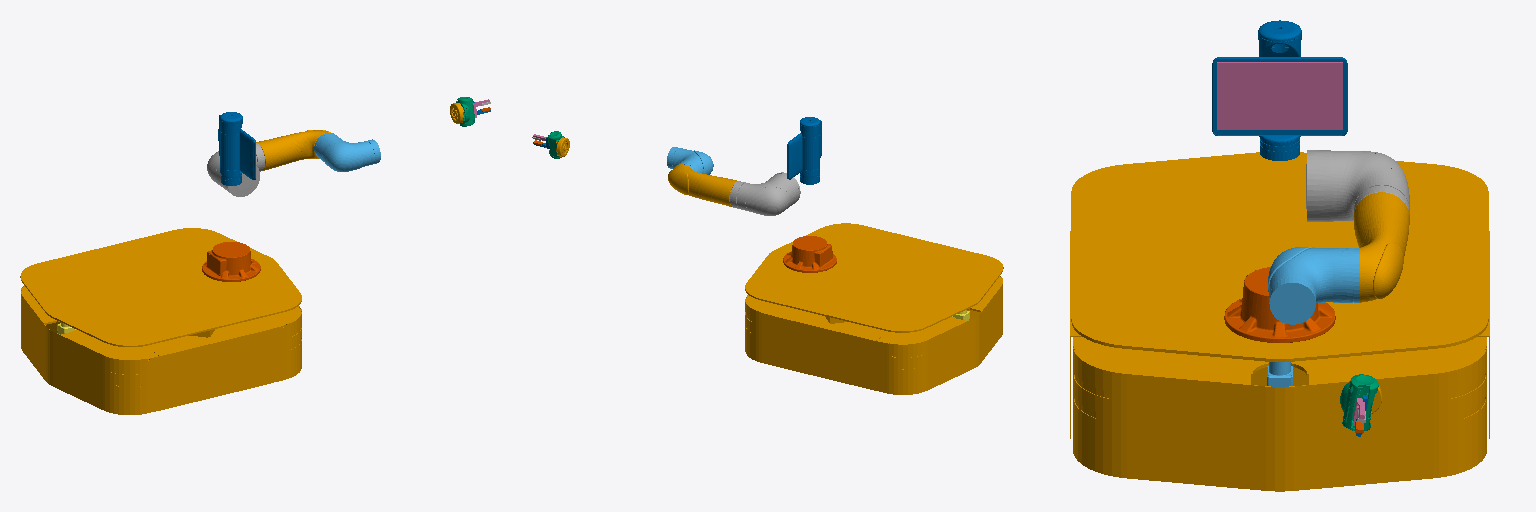
The robot description file, URDF, robot "base":
<?xml version="1.0" encoding="UTF-8"?>
<robot name="base">
  <joint name="panda_fixed" type="fixed">
    <origin xyz="0. 0. 0." rpy="0. -1.5707964 0."/>
    <parent link="sawyer_mobile"/>
    <child link="base_link"/>
    <axis xyz="0 0 0"/>
  </joint>  
  <joint name="front_laser_joint" type="fixed">
    <origin xyz="0.233 0. -0.3932" rpy="0. 1.5707963 0. "/>
    <parent link="base_link"/>
    <child link="front_laser"/>
  </joint>
  <joint name="rear_laser_joint" type="fixed">
    <origin xyz="0.233 -0. 0.3932" rpy="1.5707964 -1.5707958 1.5707964"/>
    <parent link="base_link"/>
    <child link="rear_laser"/>
  </joint>
  <joint name="display_joint" type="fixed">
    <origin xyz="0.105 0. -0.03 " rpy="3.1415927 0. 1.5707964"/>
    <parent link="head"/>
    <child link="screen"/>
  </joint>
  <joint name="head_pan" type="revolute">
    <origin xyz="0.2965 0. 0. " rpy="0. 0. 0."/>
    <parent link="right_l0"/>
    <child link="head"/>
    <axis xyz="1. 0. 0."/>
    <limit lower="-5.0951997" upper="0.9064" effort="480." velocity="1.8"/>
  </joint>
  <joint name="right_arm_mount" type="fixed">
    <origin xyz="0.28 0.0 -0.290" rpy="0. 1.5707964 0"/>
    <parent link="base_link"/>
    <child link="right_arm_base_link"/>
  </joint>
  <joint name="right_j0" type="revolute">
    <origin xyz="0. 0. 0.08" rpy="0. -1.5707964 0. "/>
    <parent link="right_arm_base_link"/>
    <child link="right_l0"/>
    <axis xyz="1. 0. 0."/>
    <limit lower="-3.0502998" upper="3.0502998" effort="4800." velocity="1.74"/>
  </joint>
  <joint name="right_j1" type="revolute">
    <origin xyz="0.237 0.05 -0.081" rpy="1.5707964 0. 1.5707964"/>
    <parent link="right_l0"/>
    <child link="right_l1"/>
    <axis xyz="1. 0. 0."/>
    <limit lower="-3.8094999" upper="2.2736" effort="4800." velocity="1.3279999"/>
  </joint>
  <joint name="right_j2" type="revolute">
    <origin xyz="0.1425 -0.14 -0. " rpy="-0. 0. -1.5707963"/>
    <parent link="right_l1"/>
    <child link="right_l2"/>
    <axis xyz="1. 0. 0."/>
    <limit lower="-3.0425998" upper="3.0425998" effort="2400." velocity="1.957"/>
  </joint>
  <joint name="right_j3" type="revolute">
    <origin xyz="0.26 -0.042 -0.0000001" rpy="0.0000002 -0. 1.5707963"/>
    <parent link="right_l2"/>
    <child link="right_l3"/>
    <axis xyz="1. 0. 0."/>
    <limit lower="-3.0438999" upper="3.0438999" effort="2400." velocity="1.957"/>
  </joint>
  <joint name="right_j4" type="revolute">
    <origin xyz="-0.1265 -0.1249999 0. " rpy="-0.0000001 -0.0000001 -1.5707963"/>
    <parent link="right_l3"/>
    <child link="right_l4"/>
    <axis xyz="1. 0. 0."/>
    <limit lower="-2.9760998" upper="2.9760998" effort="540." velocity="3.4849998"/>
  </joint>
  <joint name="right_j5" type="revolute">
    <origin xyz="0.2749999 0.031 0. " rpy="0.0000001 -0.0000001 1.5707963"/>
    <parent link="right_l4"/>
    <child link="right_l5"/>
    <axis xyz="1. 0. 0."/>
    <limit lower="-2.9760998" upper="2.9760998" effort="540." velocity="3.4849998"/>
  </joint>
  <joint name="right_j6" type="revolute">
    <origin xyz="0.1053 -0.11 0. " rpy="2.9670625 0.0000072 -1.5707961"/>
    <parent link="right_l5"/>
    <child link="right_l6"/>
    <axis xyz="1. 0. 0."/>
    <limit lower="-4.7123996" upper="4.7123996" effort="540." velocity="4.5450003"/>
  </joint>
  <joint name="right_l6_right_hand" type="fixed">
    <origin xyz="0.0245 0. 0. " rpy="1.5707961 0.0000001 0.0000002"/>
    <parent link="right_l6"/>
    <child link="sawyer_right_hand"/>
  </joint>
  <joint name="right_connector_plate_base_joint" type="fixed">
    <origin xyz="0. 0. 0.0018" rpy="0. 0. 0."/>
    <parent link="right_gripper_base"/>
    <child link="right_connector_plate_base"/>
  </joint>
  <joint name="right_connector_plate_mount_joint" type="fixed">
    <origin xyz="0. -0. 0.0176001" rpy="0. 0. 0."/>
    <parent link="right_connector_plate_base"/>
    <child link="right_connector_plate_mount"/>
  </joint>
  <joint name="right_electric_gripper_base_joint" type="fixed">
    <origin xyz="0. -0. -0.0000001" rpy="0. 0. 0."/>
    <parent link="right_connector_plate_mount"/>
    <child link="right_electric_gripper_base"/>
  </joint>
  <joint name="right_gripper_base_joint" type="fixed">
    <origin xyz="0. 0. -0.005" rpy="-1.5707964 1.5707964 -1.5707964"/>
    <parent link="sawyer_right_hand"/>
    <child link="right_gripper_base"/>
  </joint>
  <joint name="right_gripper_l_finger_joint" type="prismatic">
    <origin xyz="0.003 -0.0015 0.04552" rpy="-0. 0.0000001 -0.0000002"/>
    <parent link="right_electric_gripper_base"/>
    <child link="right_gripper_l_finger"/>
    <axis xyz="0. 1. 0."/>
    <limit lower="0." upper="0.020833" effort="20." velocity="5."/>
  </joint>
  <joint name="right_gripper_l_finger_tip_joint" type="fixed">
    <origin xyz="-0. 0.01725 0.075 " rpy="0.0000001 0. -0.0000001"/>
    <parent link="right_gripper_l_finger"/>
    <child link="right_gripper_l_finger_tip"/>
  </joint>
  <joint name="right_gripper_r_finger_joint" type="prismatic">
    <origin xyz="0.003 0.0015 0.04552" rpy="-0. 0.0000001 -0.0000002"/>
    <parent link="right_electric_gripper_base"/>
    <child link="right_gripper_r_finger"/>
    <axis xyz="0. 1. 0."/>
    <limit lower="-0.020833" upper="0." effort="340282346638528859811704183484516925440." velocity="5."/>
  </joint>
  <joint name="right_gripper_r_finger_tip_joint" type="fixed">
    <origin xyz="-0. -0.01725 0.0750001" rpy="0. -0.0000001 0. "/>
    <parent link="right_gripper_r_finger"/>
    <child link="right_gripper_r_finger_tip"/>
  </joint>
  <joint name="right_gripper_tip_joint" type="fixed">
    <origin xyz="0. 0. 0.14062" rpy="0. 0. 0."/>
    <parent link="right_gripper_base"/>
    <child link="right_gripper_tip"/>
  </joint>
  <joint name="torso_t0" type="fixed">
    <origin xyz="0. 0. 0." rpy="0. 0. 0."/>
    <parent link="base_link"/>
    <child link="torso"/>
  </joint>
  <link name="base_link">
    <inertial>
      <origin xyz="0.012 0.002 0.067" rpy="0. 0. 0."/>
      <mass value="1000."/>
      <inertia ixx="4.4744" ixy="0." ixz="0." iyy="7.1623998" iyz="0." izz="4.6155"/>
    </inertial>
    <visual>
      <origin xyz="0. 0. -0." rpy="0. 1.5707963 0. "/>
      <geometry>
        <mesh filename="./meshes/base_link_visuals_mesh_0.obj" scale="1. 1. 1."/>
      </geometry>
    </visual>
    <visual>
      <origin xyz="0. 0. -0." rpy="1.5707964 -1.5707958 1.5707964"/>
      <geometry>
        <mesh filename="./meshes/base_link_visuals_mesh_1.obj" scale="1. 1. 1."/>
      </geometry>
    </visual>
    <visual>
      <origin xyz="0. 0. -0." rpy="0. 1.5707963 0. "/>
      <geometry>
        <mesh filename="./meshes/mesh_2.obj" scale="1. 1. 1."/>
      </geometry>
    </visual>
    <visual>
      <origin xyz="0. 0. -0." rpy="0. 1.5707963 0. "/>
      <geometry>
        <mesh filename="./meshes/mesh_3.obj" scale="1. 1. 1."/>
      </geometry>
    </visual>
    <visual>
      <origin xyz="0. 0. -0." rpy="1.5707964 -1.5707958 1.5707964"/>
      <geometry>
        <mesh filename="./meshes/mesh_4.obj" scale="1. 1. 1."/>
      </geometry>
    </visual>
    <visual>
      <origin xyz="0. 0. -0." rpy="0. 1.5707963 0. "/>
      <geometry>
        <mesh filename="./meshes/mesh_5.obj" scale="1. 1. 1."/>
      </geometry>
    </visual>
    <visual>
      <origin xyz="0. 0. -0." rpy="1.5707964 -1.5707958 1.5707964"/>
      <geometry>
        <mesh filename="./meshes/mesh_6.obj" scale="1. 1. 1."/>
      </geometry>
    </visual>
    <visual>
      <origin xyz="0. 0. -0." rpy="0. 1.5707963 0. "/>
      <geometry>
        <mesh filename="./meshes/mesh_7.obj" scale="1. 1. 1."/>
      </geometry>
    </visual>
    <collision>
      <origin xyz="0. 0. -0." rpy="0. 1.5707963 0. "/>
      <geometry>
        <mesh filename="./meshes/base_link_collisions_mesh_0.obj" scale="1. 1. 1."/>
      </geometry>
    </collision>
    <collision>
      <origin xyz="0. 0. -0." rpy="0. 1.5707963 0. "/>
      <geometry>
        <mesh filename="./meshes/base_link_collisions_mesh_1.obj" scale="1. 1. 1."/>
      </geometry>
    </collision>
  </link>
  <link name="front_laser">
    <inertial>
      <origin xyz="0. 0. 0." rpy="0. 0. 0."/>
      <mass value="0.13"/>
      <inertia ixx="0.0000802" ixy="0." ixz="0." iyy="0.0000802" iyz="0." izz="0.0000542"/>
    </inertial>
    <visual>
      <origin xyz="0. 0. 0." rpy="0. 0. 0."/>
      <geometry>
        <mesh filename="./meshes/front_laser_visuals.obj" scale="1. 1. 1."/>
      </geometry>
    </visual>
    <collision>
      <origin xyz="0. 0. -0.0122" rpy="0. 0. 0."/>
      <geometry>
        <box size="0.05 0.05 0.07"/>
      </geometry>
    </collision>
  </link>
  <link name="sawyer_mobile"/>
  <link name="rear_laser">
    <inertial>
      <origin xyz="0. 0. 0." rpy="0. 0. 0."/>
      <mass value="0.13"/>
      <inertia ixx="0.0000802" ixy="0." ixz="0." iyy="0.0000802" iyz="0." izz="0.0000542"/>
    </inertial>
    <visual>
      <origin xyz="0. -0. 0." rpy="0. 0. -0."/>
      <geometry>
        <mesh filename="./meshes/rear_laser_visuals.obj" scale="1. 1. 1."/>
      </geometry>
    </visual>
    <collision>
      <origin xyz="0. -0. -0.0122" rpy="0. 0. -0."/>
      <geometry>
        <box size="0.05 0.05 0.07"/>
      </geometry>
    </collision>
  </link>
  <link name="head">
    <inertial>
      <origin xyz="0.0053207 -0.0000265 0.1021 " rpy="0. 0. 0."/>
      <mass value="1.5795"/>
      <inertia ixx="0.011833" ixy="0." ixz="0." iyy="0.0082709" iyz="0." izz="0.0049661"/>
    </inertial>
    <visual>
      <origin xyz="0. 0. 0." rpy="0. 1.5707964 0. "/>
      <geometry>
        <mesh filename="./meshes/head_visuals_mesh_0.obj" scale="1. 1. 1."/>
      </geometry>
    </visual>
    <collision>
      <origin xyz="0.08 0. 0. " rpy="0. 1.5707964 0. "/>
      <geometry>
        <sphere radius="0.18"/>
      </geometry>
    </collision>
  </link>
  <link name="right_arm_base_link">
    <inertial>
      <origin xyz="-0.0006241 -0.000028 0.065404 " rpy="0. 0. 0."/>
      <mass value="2.0687001"/>
      <inertia ixx="0.0067599" ixy="0." ixz="0." iyy="0.0067877" iyz="0." izz="0.0074031"/>
    </inertial>
    <visual>
      <origin xyz="0. 0. 0." rpy="0. 0. 0."/>
      <geometry>
        <mesh filename="./meshes/right_arm_base_link_visuals_mesh_0.obj" scale="1. 1. 1."/>
      </geometry>
    </visual>
    <collision>
      <origin xyz="0. 0. 0.12" rpy="0. 0. 0."/>
      <geometry>
        <cylinder radius="0.08" length="0.24"/>
      </geometry>
    </collision>
  </link>
  <link name="right_l0">
    <inertial>
      <origin xyz="0.024366 0.010969 0.14363 " rpy="0. 0. 0."/>
      <mass value="5.3213"/>
      <inertia ixx="0.053314" ixy="0." ixz="0." iyy="0.057902" iyz="0." izz="0.023659"/>
    </inertial>
    <visual>
      <origin xyz="0. 0. 0." rpy="0. 1.5707964 0. "/>
      <geometry>
        <mesh filename="./meshes/right_l0_visuals_mesh_0.obj" scale="1. 1. 1."/>
      </geometry>
    </visual>
    <collision>
      <origin xyz="0.23 0. -0.08" rpy="0. 1.5707964 0. "/>
      <geometry>
        <sphere radius="0.07"/>
      </geometry>
    </collision>
  </link>
  <link name="right_l1">
    <inertial>
      <origin xyz="-0.0030849 -0.026811 0.092521 " rpy="0. 0. 0."/>
      <mass value="4.5050001"/>
      <inertia ixx="0.022398" ixy="0." ixz="0." iyy="0.014613" iyz="0." izz="0.017295"/>
    </inertial>
    <visual>
      <origin xyz="0. 0. 0." rpy="-0. 1.5707963 0. "/>
      <geometry>
        <mesh filename="./meshes/right_l1_visuals_mesh_0.obj" scale="1. 1. 1."/>
      </geometry>
    </visual>
    <collision>
      <origin xyz="0.1225 0. -0. " rpy="-0. 1.5707963 0. "/>
      <geometry>
        <sphere radius="0.07"/>
      </geometry>
    </collision>
  </link>
  <link name="right_l2">
    <inertial>
      <origin xyz="-0.0001604 -0.014967 0.13582 " rpy="0. 0. 0."/>
      <mass value="1.745"/>
      <inertia ixx="0.025506" ixy="0." ixz="0." iyy="0.0253" iyz="0." izz="0.0034179"/>
    </inertial>
    <visual>
      <origin xyz="-0. -0. -0." rpy="2.9025872 1.5707961 2.9025872"/>
      <geometry>
        <mesh filename="./meshes/right_l2_visuals_mesh_0.obj" scale="1. 1. 1."/>
      </geometry>
    </visual>
    <collision>
      <origin xyz="0.08 -0. -0. " rpy="2.9025872 1.5707961 2.9025872"/>
      <geometry>
        <cylinder radius="0.06" length="0.34"/>
      </geometry>
    </collision>
  </link>
  <link name="right_l3">
    <inertial>
      <origin xyz="-0.0048135 -0.0281 -0.084154 " rpy="0. 0. 0."/>
      <mass value="2.5097001"/>
      <inertia ixx="0.01016" ixy="0." ixz="0." iyy="0.0065685" iyz="0." izz="0.0069078"/>
    </inertial>
    <visual>
      <origin xyz="0. 0.0000001 -0. " rpy="-2.1431708 1.5707961 -2.1431708"/>
      <geometry>
        <mesh filename="./meshes/right_l3_visuals_mesh_0.obj" scale="1. 1. 1."/>
      </geometry>
    </visual>
    <collision>
      <origin xyz="-0.12 -0.0099999 0. " rpy="-2.1431708 1.5707961 -2.1431708"/>
      <geometry>
        <sphere radius="0.06"/>
      </geometry>
    </collision>
  </link>
  <link name="right_l4">
    <inertial>
      <origin xyz="-0.0018844 0.0069001 0.1341 " rpy="0. 0. 0."/>
      <mass value="1.1136"/>
      <inertia ixx="0.013557" ixy="0." ixz="0." iyy="0.013555" iyz="0." izz="0.0013658"/>
    </inertial>
    <visual>
      <origin xyz="-0.0000001 0.0000001 0.0000001" rpy="2.5692182 1.5707961 2.5692182"/>
      <geometry>
        <mesh filename="./meshes/right_l4_visuals_mesh_0.obj" scale="1. 1. 1."/>
      </geometry>
    </visual>
    <collision>
      <origin xyz="0.1099999 0.0000001 0. " rpy="2.5692182 1.5707961 2.5692182"/>
      <geometry>
        <cylinder radius="0.045" length="0.3"/>
      </geometry>
    </collision>
  </link>
  <link name="right_l5">
    <inertial>
      <origin xyz="0.0061133 -0.023697 0.076416 " rpy="0. 0. 0."/>
      <mass value="1.5625"/>
      <inertia ixx="0.0047328" ixy="0." ixz="0." iyy="0.0029676" iyz="0." izz="0.0031762"/>
    </inertial>
    <visual>
      <origin xyz="-0. 0. -0." rpy="-2.1431708 1.5707961 -2.1431708"/>
      <geometry>
        <mesh filename="./meshes/right_l5_visuals_mesh_0.obj" scale="1. 1. 1."/>
      </geometry>
    </visual>
    <collision>
      <origin xyz="0.1 0. -0. " rpy="-2.1431708 1.5707961 -2.1431708"/>
      <geometry>
        <sphere radius="0.06"/>
      </geometry>
    </collision>
  </link>
  <link name="right_l6">
    <inertial>
      <origin xyz="-0.0000081 0.0085838 -0.0049566" rpy="0. 0. 0."/>
      <mass value="0.3292"/>
      <inertia ixx="0.0003111" ixy="0." ixz="0." iyy="0.0002155" iyz="0." izz="0.0003598"/>
    </inertial>
    <visual>
      <origin xyz="-0. -0. 0." rpy="-0.0000002 1.5707963 0. "/>
      <geometry>
        <mesh filename="./meshes/right_l6_visuals_mesh_0.obj" scale="1. 1. 1."/>
      </geometry>
    </visual>
    <collision>
      <origin xyz="-0.01 0.015 0. " rpy="-0.0000002 1.5707963 0. "/>
      <geometry>
        <cylinder radius="0.055" length="0.05"/>
      </geometry>
    </collision>
  </link>
  <link name="sawyer_right_hand">
    <inertial>
      <origin xyz="0. 0. 0." rpy="0. 0. 0."/>
      <mass value="0."/>
      <inertia ixx="0." ixy="0." ixz="0." iyy="0." iyz="0." izz="0."/>
    </inertial>
  </link>
  <link name="screen">
    <inertial>
      <origin xyz="0. 0. 0." rpy="0. 0. 0."/>
      <mass value="0.0001"/>
      <inertia ixx="0." ixy="0." ixz="0." iyy="0." iyz="0." izz="0."/>
    </inertial>
    <visual>
      <origin xyz="0. -0. 0." rpy="0. 0. 0."/>
      <geometry>
        <box size="0.24 0.14 0.002"/>
      </geometry>
    </visual>
    <collision>
      <origin xyz="0. -0. 0." rpy="0. 0. 0."/>
      <geometry>
        <sphere radius="0.001"/>
      </geometry>
    </collision>
  </link>
  <link name="torso">
    <inertial>
      <origin xyz="0. 0. 0." rpy="0. 0. 0."/>
      <mass value="0.0001"/>
      <inertia ixx="0." ixy="0." ixz="0." iyy="0." iyz="0." izz="0."/>
    </inertial>
    <visual>
      <origin xyz="0. 0. 0." rpy="0. 0. 0."/>
      <geometry>
        <box size="0.001 0.001 0.001"/>
      </geometry>
    </visual>
  </link>
  <link name="right_connector_plate_base">
    <inertial>
      <origin xyz="0. 0. 0." rpy="0. 0. 0."/>
      <mass value="0.000001"/>
      <inertia ixx="0.001" ixy="0." ixz="0." iyy="0.001" iyz="0." izz="0.001"/>
    </inertial>
    <visual>
      <origin xyz="-0. 0. 0.0000002" rpy="0. 0. 0."/>
      <geometry>
        <mesh filename="meshes/right_connector_plate_base_visuals.obj" scale="1. 1. 1."/>
      </geometry>
    </visual>
    <collision>
      <origin xyz="0. -0. 0.0135001" rpy="0. 0. 0."/>
      <geometry>
        <cylinder radius="0.04" length="0.0302"/>
      </geometry>
    </collision>
  </link>
  <link name="right_connector_plate_mount">
    <inertial>
      <origin xyz="0. 0. 0." rpy="0. 0. 0."/>
      <mass value="0.000001"/>
      <inertia ixx="0.00001" ixy="0." ixz="0." iyy="0.00001" iyz="0." izz="0.00001"/>
    </inertial>
  </link>
  <link name="right_electric_gripper_base">
    <inertial>
      <origin xyz="0. 0. 0." rpy="0. 0. 0."/>
      <mass value="0.000002"/>
      <inertia ixx="0.001" ixy="0." ixz="0." iyy="0.001" iyz="0." izz="0.001"/>
    </inertial>
    <visual>
      <origin xyz="-0. 0. 0." rpy="-0. 0.0000001 -0.0000002"/>
      <geometry>
        <mesh filename="meshes/right_electric_gripper_base_visuals.obj" scale="1. 1. 1."/>
      </geometry>
    </visual>
    <collision>
      <origin xyz="0.004 -0. 0.025" rpy="1.5707964 -0.0000002 3.1415925"/>
      <geometry>
        <cylinder radius="0.029" length="0.1"/>
      </geometry>
    </collision>
  </link>
  <link name="right_gripper_base">
    <inertial>
      <origin xyz="0. 0. 0." rpy="0. 0. 0."/>
      <mass value="0.47"/>
      <inertia ixx="0.00001" ixy="0." ixz="0." iyy="0.00001" iyz="0." izz="0.00001"/>
    </inertial>
  </link>
  <link name="right_gripper_l_finger">
    <inertial>
      <origin xyz="0. 0. 0." rpy="0. 0. 0."/>
      <mass value="0.001"/>
      <inertia ixx="0.001" ixy="0." ixz="0." iyy="0.001" iyz="0." izz="0.001"/>
    </inertial>
    <visual>
      <origin xyz="0. -0. -0." rpy="-0.0000001 -0. 3.1415925"/>
      <geometry>
        <mesh filename="meshes/right_gripper_l_finger_visuals_mesh_0.obj" scale="1. 1. 1."/>
      </geometry>
    </visual>
    <visual>
      <origin xyz="-0. 0.01725 0.04 " rpy="-0.0000001 -0. 3.1415925"/>
      <geometry>
        <box size="0.01 0.0135 0.075 "/>
      </geometry>
    </visual>
    <visual>
      <origin xyz="-0.005 -0.003 0.0083" rpy="-0.0000001 -0. 3.1415925"/>
      <geometry>
        <box size="0.01 0.05 0.017"/>
      </geometry>
    </visual>
    <collision>
      <origin xyz="-0. 0.01725 0.04 " rpy="-0.0000001 -0. 3.1415925"/>
      <geometry>
        <box size="0.01 0.0135 0.075 "/>
      </geometry>
    </collision>
  </link>
  <link name="right_gripper_l_finger_tip">
    <inertial>
      <origin xyz="0. 0. 0." rpy="0. 0. 0."/>
      <mass value="0.001"/>
      <inertia ixx="0.001" ixy="0." ixz="0." iyy="0.001" iyz="0." izz="0.001"/>
    </inertial>
    <visual>
      <origin xyz="-0. -0. -0." rpy="-0.0000001 0.0000003 -3.1415923"/>
      <geometry>
        <mesh filename="meshes/right_gripper_l_finger_tip_visuals_mesh_0.obj" scale="1. 1. 1."/>
      </geometry>
    </visual>
    <visual>
      <origin xyz="-0. -0.0045 -0.015 " rpy="-0.0000001 0.0000003 -3.1415923"/>
      <geometry>
        <box size="0.016 0.007 0.037"/>
      </geometry>
    </visual>
    <collision>
      <origin xyz="-0. -0.0045 -0.015 " rpy="-0.0000001 0.0000003 -3.1415923"/>
      <geometry>
        <box size="0.016 0.007 0.037"/>
      </geometry>
    </collision>
  </link>
  <link name="right_gripper_r_finger">
    <inertial>
      <origin xyz="0. 0. 0." rpy="0. 0. 0."/>
      <mass value="0.001"/>
      <inertia ixx="0.001" ixy="0." ixz="0." iyy="0.001" iyz="0." izz="0.001"/>
    </inertial>
    <visual>
      <origin xyz="-0. -0. 0.0000001" rpy="0. -0.0000001 0. "/>
      <geometry>
        <mesh filename="meshes/right_gripper_r_finger_visuals_mesh_0.obj" scale="1. 1. 1."/>
      </geometry>
    </visual>
    <visual>
      <origin xyz="-0. -0.01725 0.0400001" rpy="0. -0.0000001 0. "/>
      <geometry>
        <box size="0.01 0.0135 0.075 "/>
      </geometry>
    </visual>
    <visual>
      <origin xyz="0.005 0.003 0.0083001" rpy="0. -0.0000001 0. "/>
      <geometry>
        <box size="0.01 0.05 0.017"/>
      </geometry>
    </visual>
    <collision>
      <origin xyz="-0. -0.01725 0.0400001" rpy="0. -0.0000001 0. "/>
      <geometry>
        <box size="0.01 0.0135 0.075 "/>
      </geometry>
    </collision>
  </link>
  <link name="right_gripper_r_finger_tip">
    <inertial>
      <origin xyz="0. 0. 0." rpy="0. 0. 0."/>
      <mass value="0.001"/>
      <inertia ixx="0.001" ixy="0." ixz="0." iyy="0.001" iyz="0." izz="0.001"/>
    </inertial>
    <visual>
      <origin xyz="0. -0. -0." rpy="0.0000003 0. 0.0000001"/>
      <geometry>
        <mesh filename="meshes/right_gripper_r_finger_tip_visuals_mesh_0.obj" scale="1. 1. 1."/>
      </geometry>
    </visual>
    <visual>
      <origin xyz="0. 0.0045 -0.015 " rpy="0.0000003 0. 0.0000001"/>
      <geometry>
        <box size="0.016 0.007 0.037"/>
      </geometry>
    </visual>
    <collision>
      <origin xyz="0. 0.0045 -0.015 " rpy="0.0000003 0. 0.0000001"/>
      <geometry>
        <box size="0.016 0.007 0.037"/>
      </geometry>
    </collision>
  </link>
  <link name="right_gripper_tip">
    <inertial>
      <origin xyz="0. 0. 0." rpy="0. 0. 0."/>
      <mass value="0.000002"/>
      <inertia ixx="0.00001" ixy="0." ixz="0." iyy="0.00001" iyz="0." izz="0.00001"/>
    </inertial>
  </link>
</robot>

--- What the picture shows (computed from the rendered views, not written in the file) ---
Views: 3 orthographic renders of the robot side by side, from view 1: azimuth 30°, elevation 25°; view 2: azimuth 150°, elevation 25°; view 3: azimuth 270°, elevation 25°.
Robot: base — 25 links, 24 joints (8 revolute, 2 prismatic, 14 fixed); root link sawyer_mobile; default pose: every joint at zero.
Visible links, largest first — view 1: base_link, head, right_l3, right_arm_base_link, right_l2, right_l1; view 2: base_link, right_l1, head, right_l2, right_arm_base_link, right_l3; view 3: base_link, screen, right_l3, right_l1, right_l2, head, right_arm_base_link, right_electric_gripper_base, front_laser.
Boxes of the visible links, box(x1,y1,x2,y2) form: base_link: box(20, 228, 301, 414); head: box(218, 112, 255, 185); right_l3: box(314, 133, 380, 171); right_arm_base_link: box(202, 242, 260, 281); right_l2: box(256, 130, 330, 170); right_l1: box(207, 143, 264, 196); base_link: box(745, 223, 1003, 394); right_l1: box(730, 172, 800, 215); head: box(787, 117, 821, 184); right_l2: box(668, 164, 736, 206); right_arm_base_link: box(783, 236, 836, 272); right_l3: box(667, 147, 713, 174); base_link: box(1070, 152, 1489, 491); screen: box(1217, 62, 1342, 129); right_l3: box(1268, 247, 1359, 324); right_l1: box(1306, 150, 1409, 221); right_l2: box(1354, 192, 1409, 302); head: box(1212, 20, 1347, 160); right_arm_base_link: box(1224, 267, 1335, 342); right_electric_gripper_base: box(1340, 374, 1378, 430); front_laser: box(1267, 362, 1292, 386).
Bounding box of the posed robot: 1.92 × 0.7932 × 0.8905 m (x, y, z).
Meshes: 25 distinct files referenced, 21 mesh visuals loaded (21 OBJ); not drawn: 4 (reference not matched to a file when rendering).
